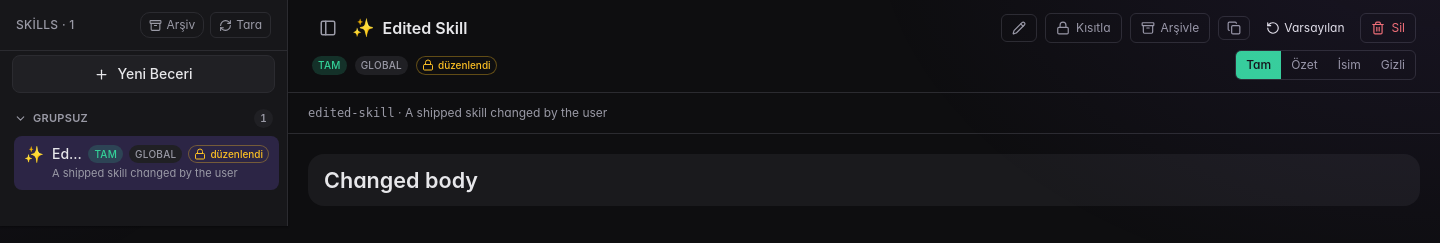
it: SkillsPanel shipped skill state › restores the default after confirmation and refreshes edited UI state
Click the button "Varsayılan" at (1305,28), box [1258,16,1352,40]
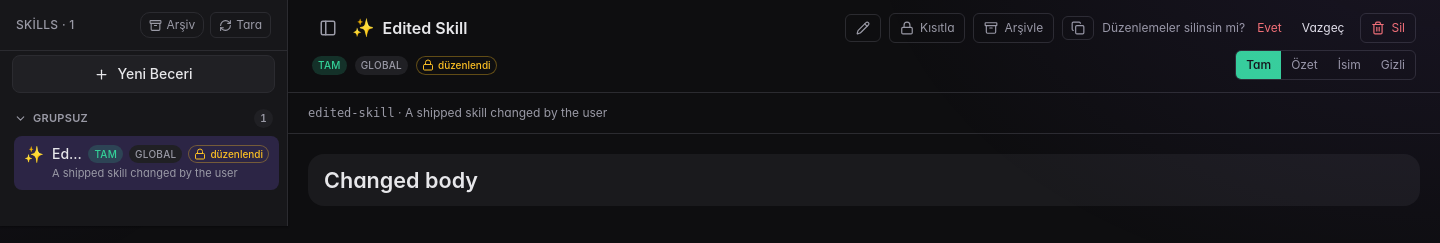
Result: the text "Düzenlemeler silinsin mi?" is shown at [1102,20,1245,36]
Click the button "Evet" at (1269,28), box [1249,16,1290,40]
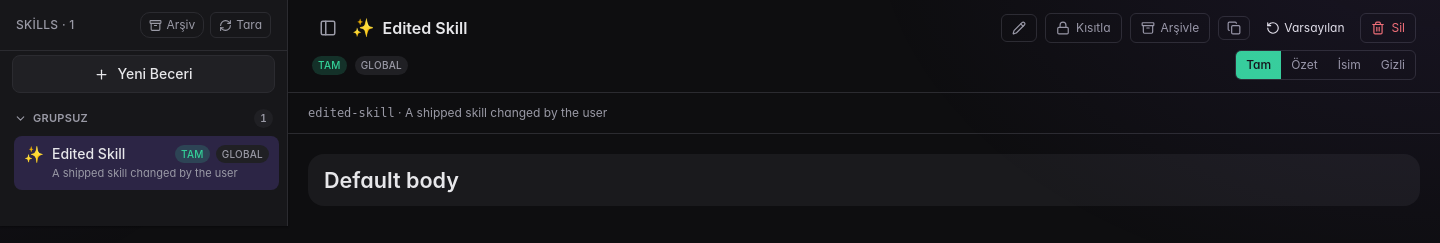
Result: the text "düzenlendi" is gone
